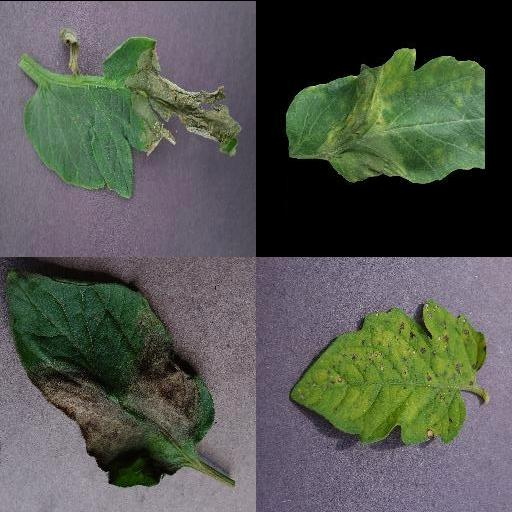Late Blight: (0, 268, 216, 487), (23, 27, 243, 201), (286, 46, 484, 186)
Septoria: (289, 302, 485, 444)
